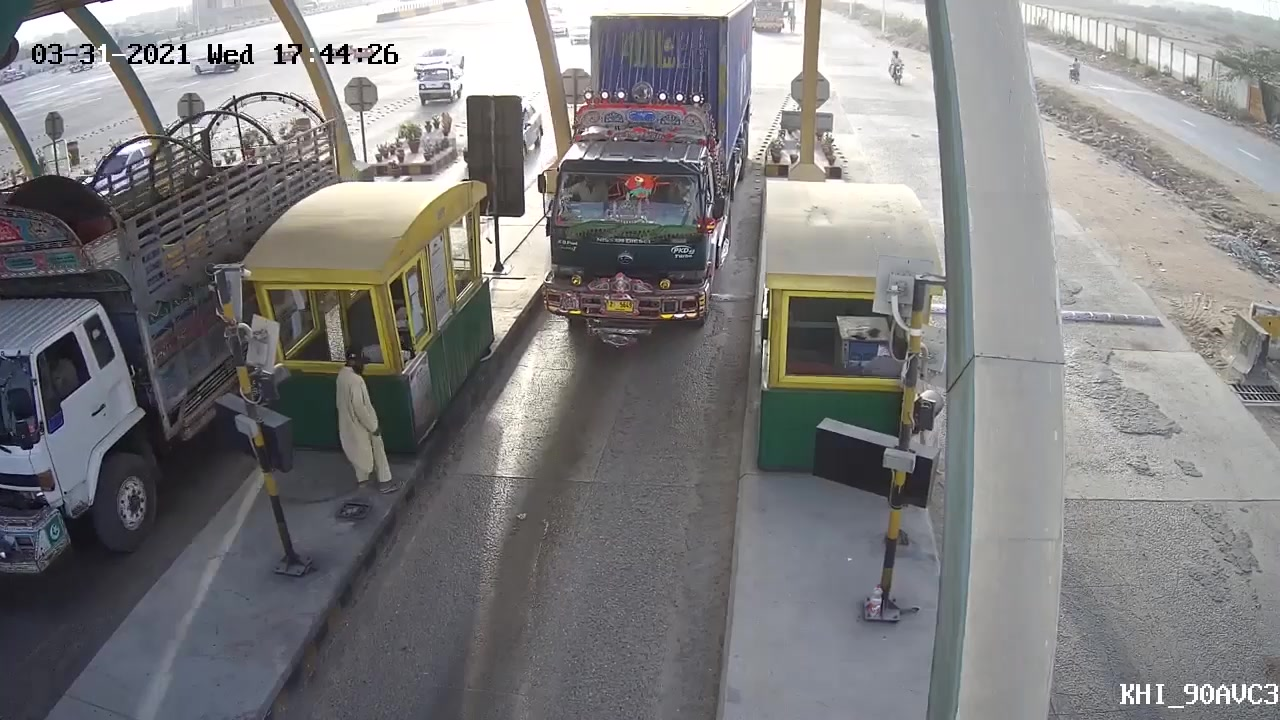F6: (522, 5, 747, 362)
